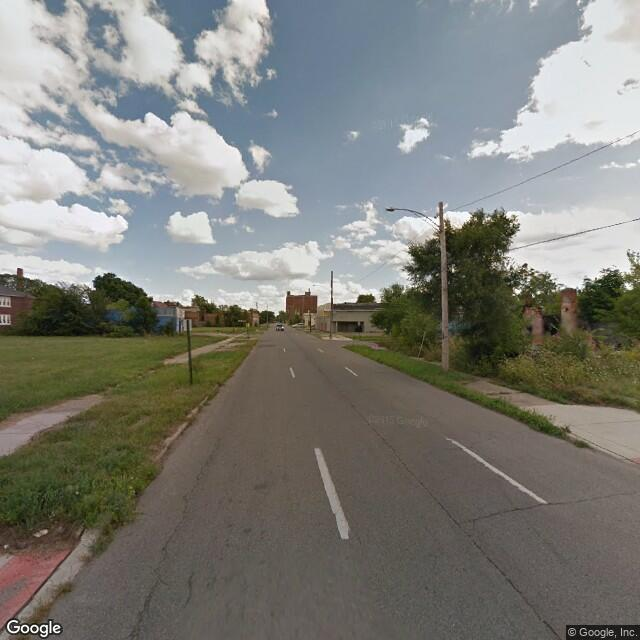litter: (31, 522, 48, 539), (126, 484, 138, 497), (1, 540, 13, 552)
